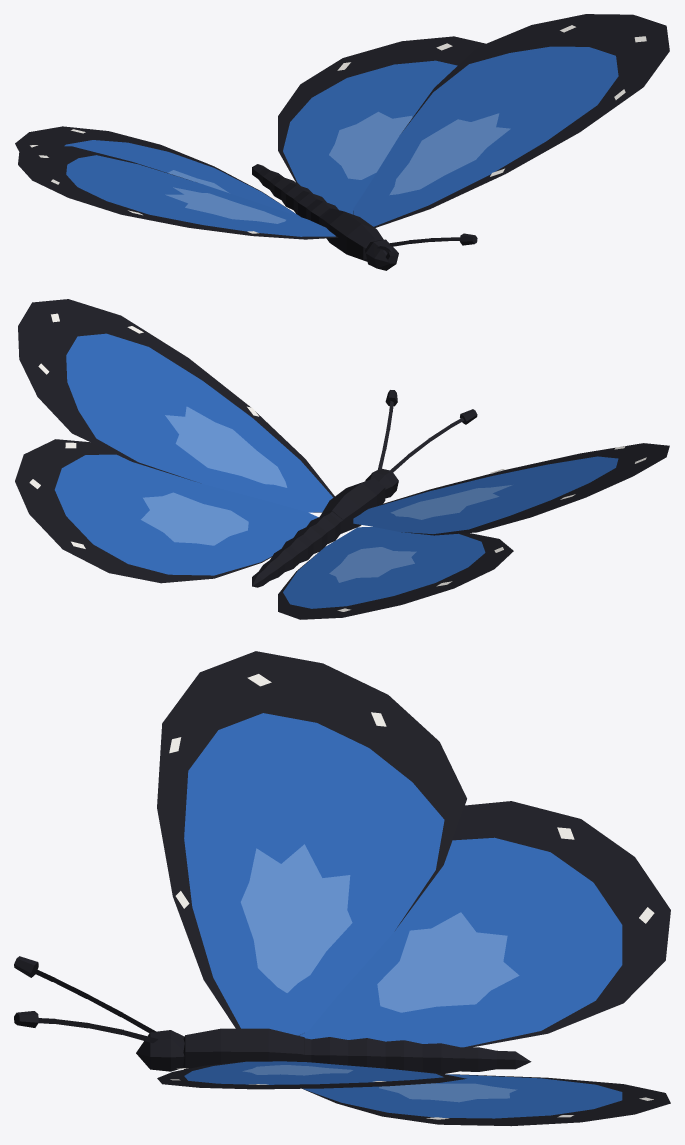
Rendered from morpho.glb.
The picture shows the model from 3 angles, top to bottom: view 1: azimuth 30°, elevation 25°; view 2: azimuth 150°, elevation 25°; view 3: azimuth 270°, elevation 25°; orthographic projection. The views are drawn at different scales.
Parts seen in each view (by area): view 1: wing_right_wing, wing_right_body, wing_left_wing, wing_right_accent, wing_left_body, body_body, wing_left_accent, antennae_body; view 2: wing_right_wing, wing_left_wing, wing_right_body, wing_right_accent, wing_left_body, body_body, wing_left_accent, antennae_body; view 3: wing_left_wing, wing_left_body, wing_left_accent, wing_right_wing, body_body, wing_right_body, wing_right_accent, antennae_body, wing_left_spot.
Boxes of the visible parts, bbox=[...] form: wing_right_wing: bbox=[283, 46, 618, 226]; wing_right_body: bbox=[278, 14, 669, 227]; wing_left_wing: bbox=[64, 140, 335, 236]; wing_right_accent: bbox=[329, 111, 510, 195]; wing_left_body: bbox=[15, 126, 337, 239]; body_body: bbox=[252, 164, 398, 270]; wing_left_accent: bbox=[165, 170, 285, 223]; antennae_body: bbox=[377, 233, 477, 263]; wing_right_wing: bbox=[54, 333, 333, 575]; wing_left_wing: bbox=[283, 456, 618, 608]; wing_right_body: bbox=[15, 299, 334, 583]; wing_right_accent: bbox=[141, 406, 287, 545]; wing_left_body: bbox=[278, 443, 669, 619]; body_body: bbox=[252, 468, 398, 587]; wing_left_accent: bbox=[329, 485, 512, 582]; antennae_body: bbox=[378, 390, 477, 473]; wing_left_wing: bbox=[184, 713, 622, 1047]; wing_left_body: bbox=[157, 651, 670, 1047]; wing_left_accent: bbox=[240, 844, 519, 1012]; wing_right_wing: bbox=[184, 1061, 622, 1118]; body_body: bbox=[136, 1028, 531, 1073]; wing_right_body: bbox=[157, 1061, 670, 1126]; wing_right_accent: bbox=[242, 1065, 517, 1102]; antennae_body: bbox=[14, 956, 157, 1043]; wing_left_spot: bbox=[169, 674, 654, 923].
Size of the model in its own units: 0.1307 by 0.0292 by 0.0825.
